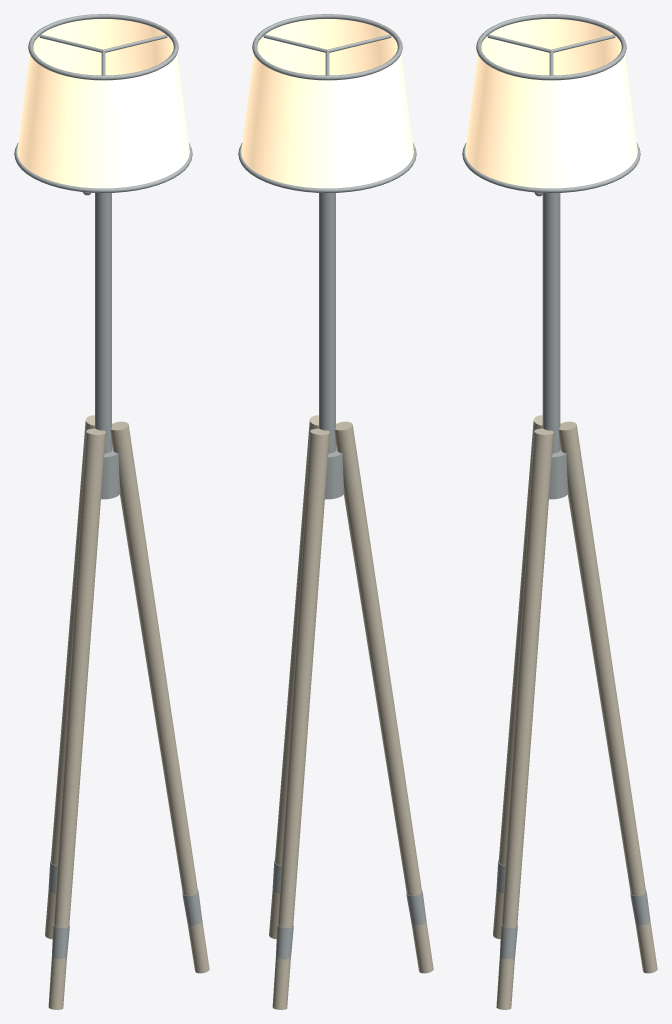
The model's file is atelier-lamp-tripod-stone.glb.
3 renders of one model, left to right at view 1: azimuth 30°, elevation 25°; view 2: azimuth 150°, elevation 25°; view 3: azimuth 270°, elevation 25°, orthographic.
Bounding box in the file's own units: 0.3003 × 1.65 × 0.3155.
